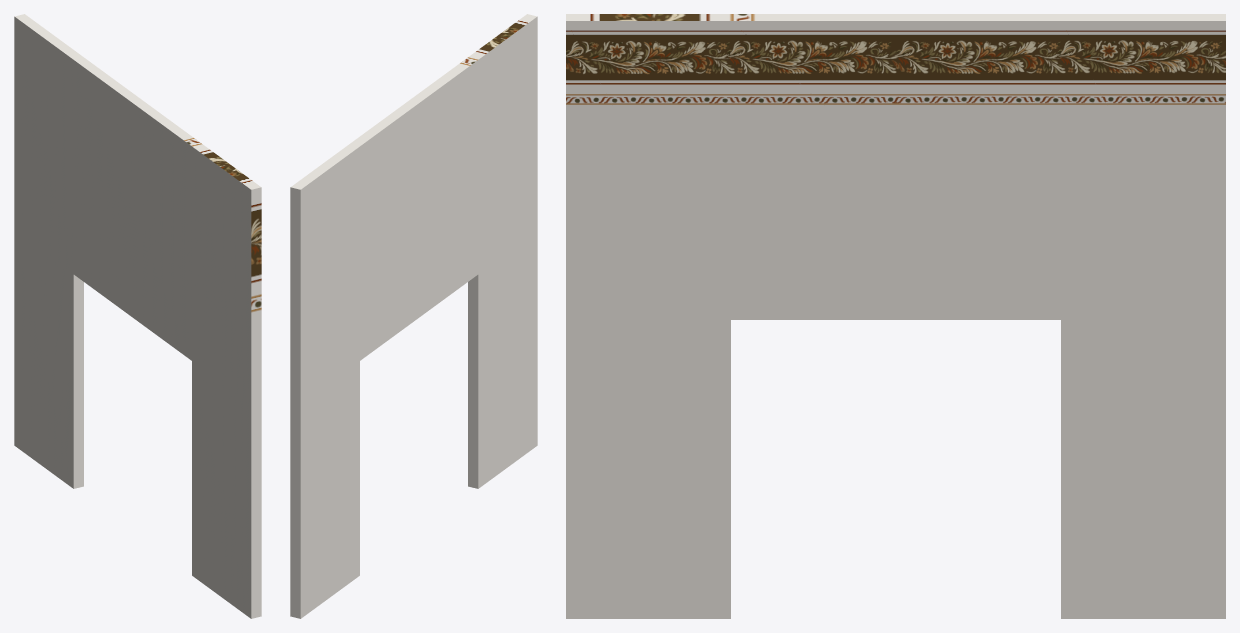
File: ModularMedDoorWall01.fbx
The picture shows the model from 3 angles, left to right: view 1: azimuth 30°, elevation 25°; view 2: azimuth 150°, elevation 25°; view 3: azimuth 270°, elevation 25°; orthographic projection. The views are drawn at different scales.
Visible parts, largest first — view 1: Wall.001; view 2: Wall.001; view 3: Wall.001.
Boxes of the visible parts, x1=… form: Wall.001: x1=14, y1=14, x2=261, y2=618; Wall.001: x1=290, y1=14, x2=537, y2=618; Wall.001: x1=566, y1=14, x2=1225, y2=618.
Bounding box in the file's own units: 0.1 × 4 × 4.
